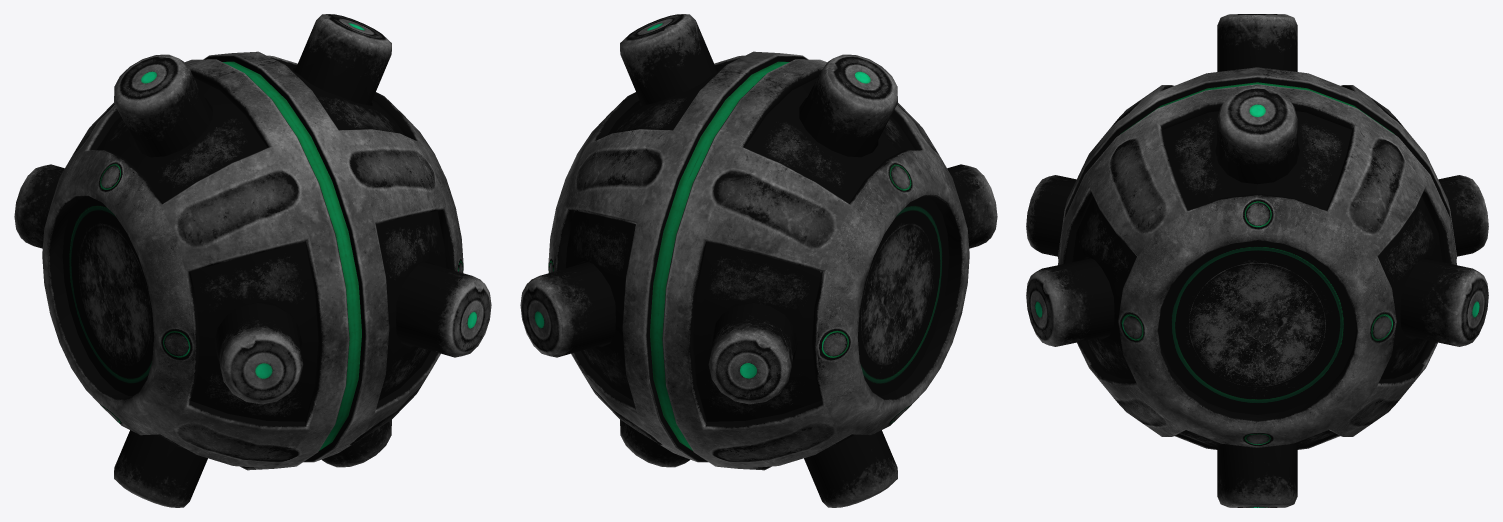
The model's file is bomb03.fbx.
3 renders of one model, left to right at view 1: azimuth 30°, elevation 25°; view 2: azimuth 150°, elevation 25°; view 3: azimuth 270°, elevation 25°, orthographic. The views are drawn at different scales.
Parts seen in each view (by area): view 1: Space Bomb 3; view 2: Space Bomb 3; view 3: Space Bomb 3.
Part boxes in pixels (bbox=[...]): Space Bomb 3: bbox=[14, 14, 491, 507]; Space Bomb 3: bbox=[520, 14, 997, 507]; Space Bomb 3: bbox=[1026, 14, 1488, 507].
Bounding box in the file's own units: 163 × 227 × 227.
